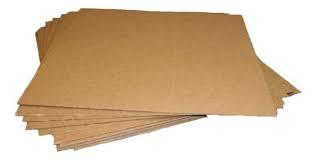Cardboard: (7, 0, 314, 160)
